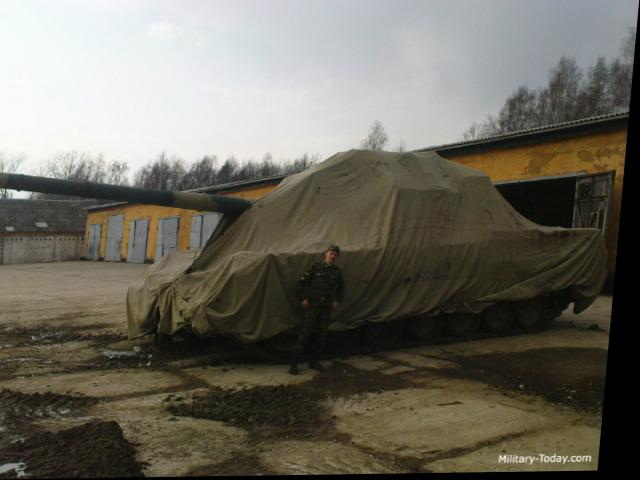other: (299, 240, 355, 372)
